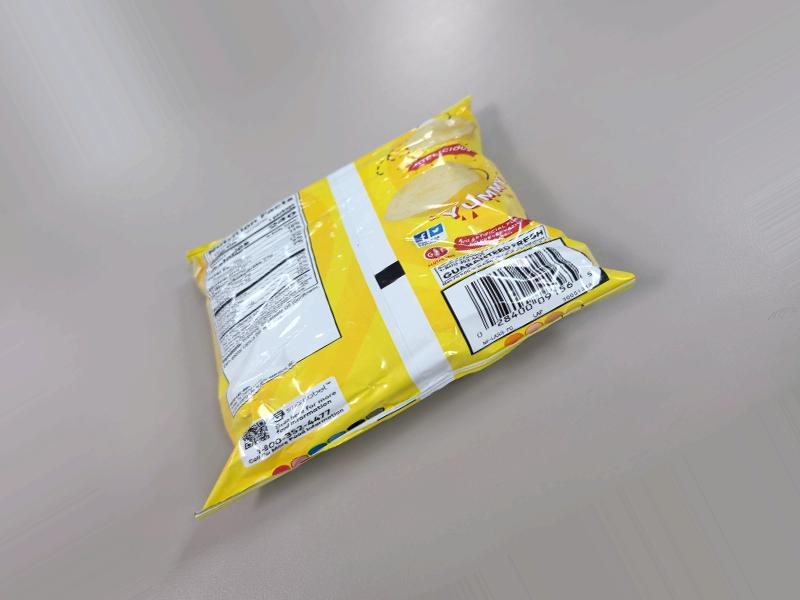lays: (255, 94, 622, 538)
